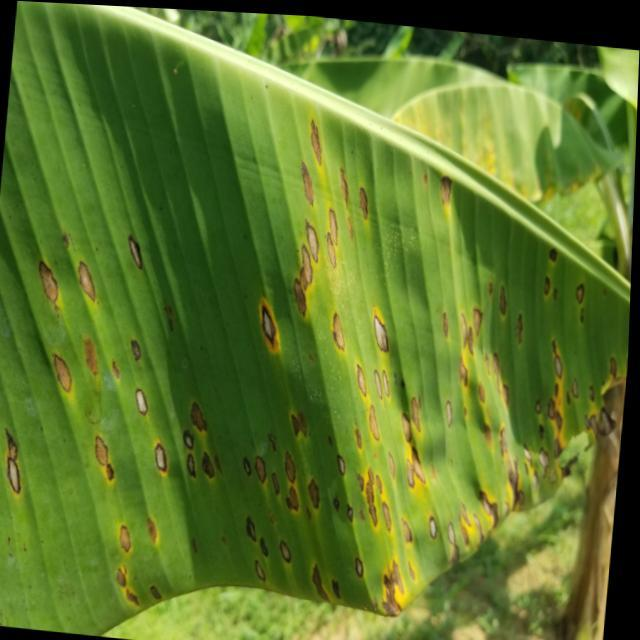Early_rust: (0, 78, 640, 611)
